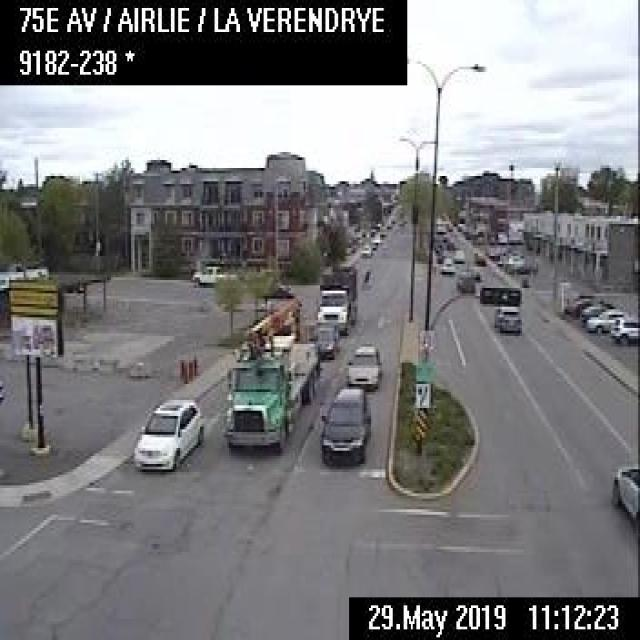construction: (191, 354, 198, 374), (181, 359, 187, 381), (187, 358, 192, 380), (177, 357, 182, 378)
vehicle: (222, 293, 321, 448), (129, 395, 204, 472), (318, 382, 371, 470), (315, 264, 357, 334), (607, 456, 638, 533), (345, 340, 381, 388), (584, 306, 623, 332), (190, 261, 235, 283), (608, 312, 638, 344), (311, 322, 336, 359), (561, 293, 596, 317), (493, 304, 522, 331), (455, 270, 474, 292), (438, 256, 454, 274), (471, 248, 485, 264), (453, 247, 465, 261), (360, 243, 370, 256), (369, 237, 378, 249)
